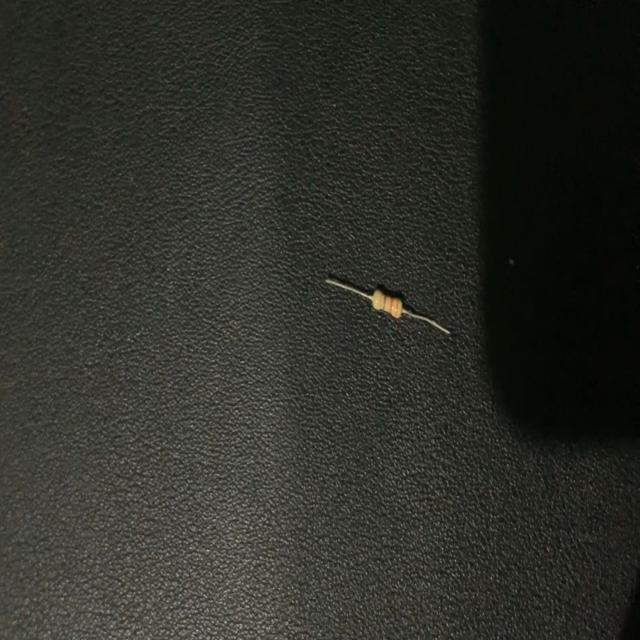resistor: (322, 272, 449, 336)
